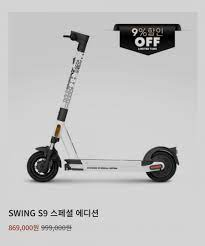kick_body: (75, 159, 141, 172)
kick_handler: (63, 30, 90, 51)
kick_neck: (52, 54, 83, 138)
kick_wheel: (144, 147, 177, 180), (26, 149, 59, 182)
